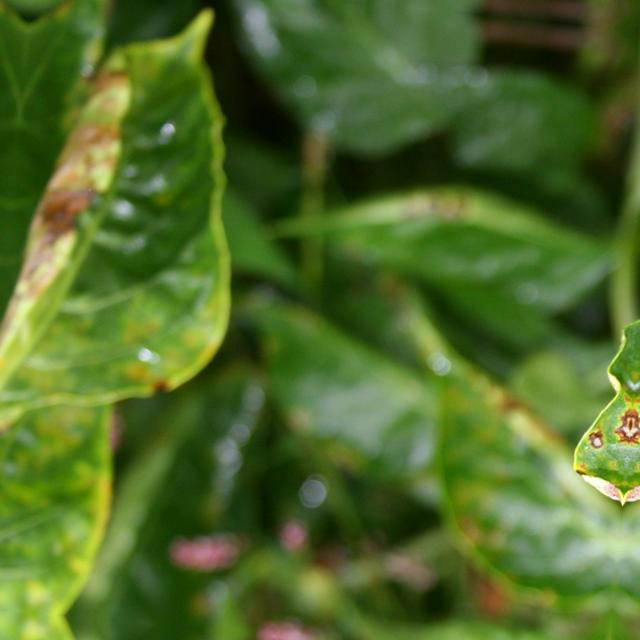Tomato leaf bacterial spot: (0, 0, 279, 459), (531, 228, 640, 640)
